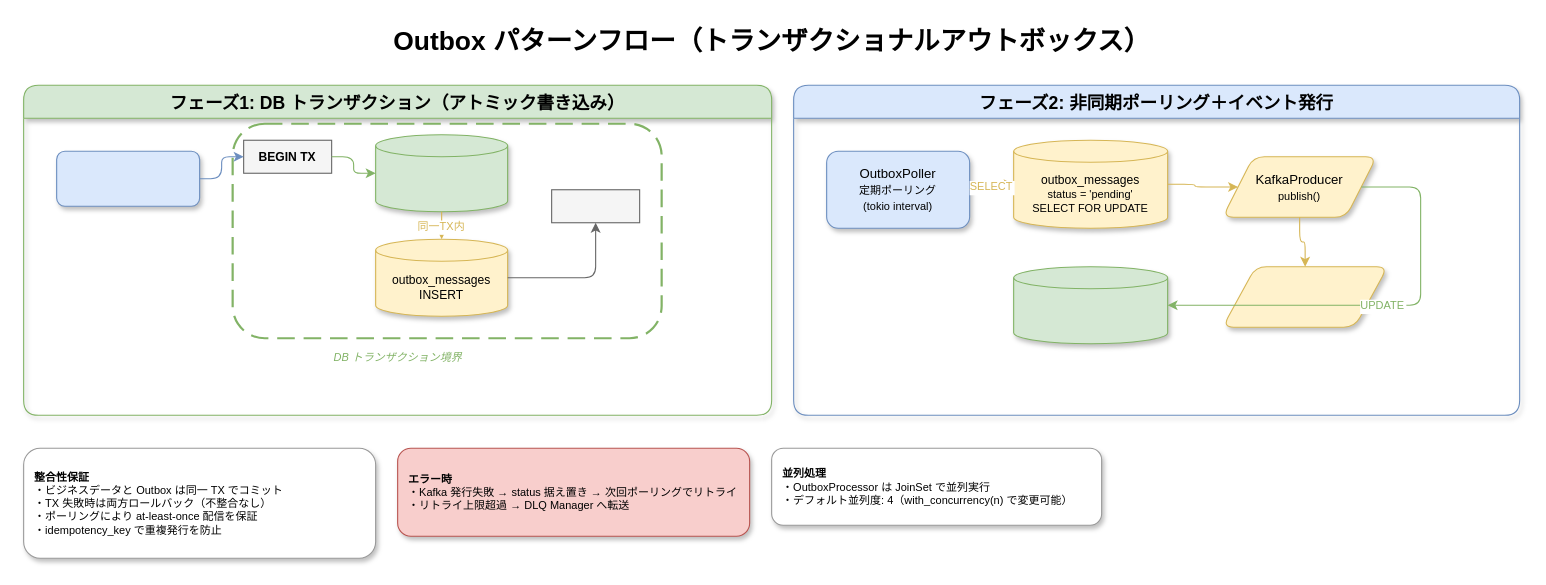
Image size: 1546x585. Some labels were removed from this diagram. Each missing label, with the centre of its shape:
"Application (usecase)" belongs at (128,180).
"COMMIT TX" belongs at (595,206).
"Kafka Topic k1s0.service.*.v1" belongs at (1305,298).
"mark_published status = 'published'" belongs at (1091,306).
"ビジネスデータ INSERT/UPDATE" belongs at (442,174).
